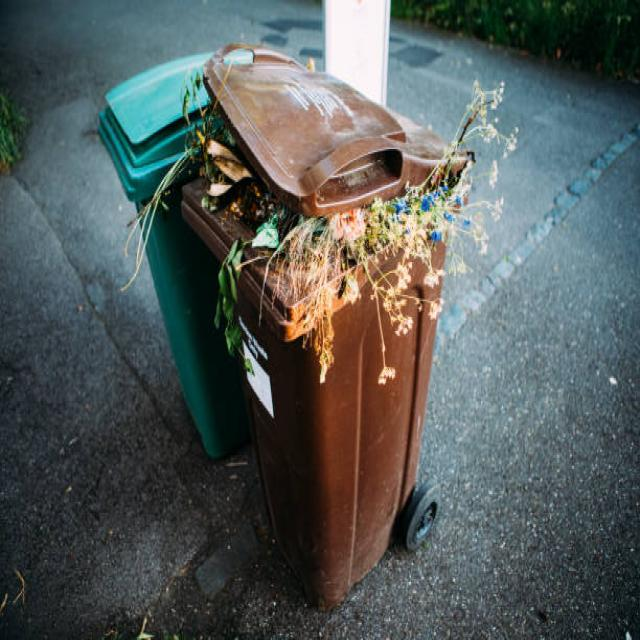plastic: (178, 44, 471, 627), (99, 55, 238, 485)
